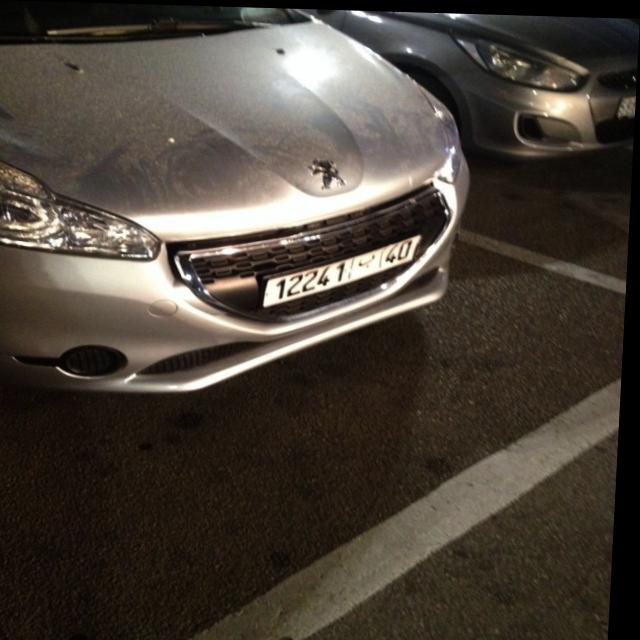License-Plate: (266, 232, 424, 305)
